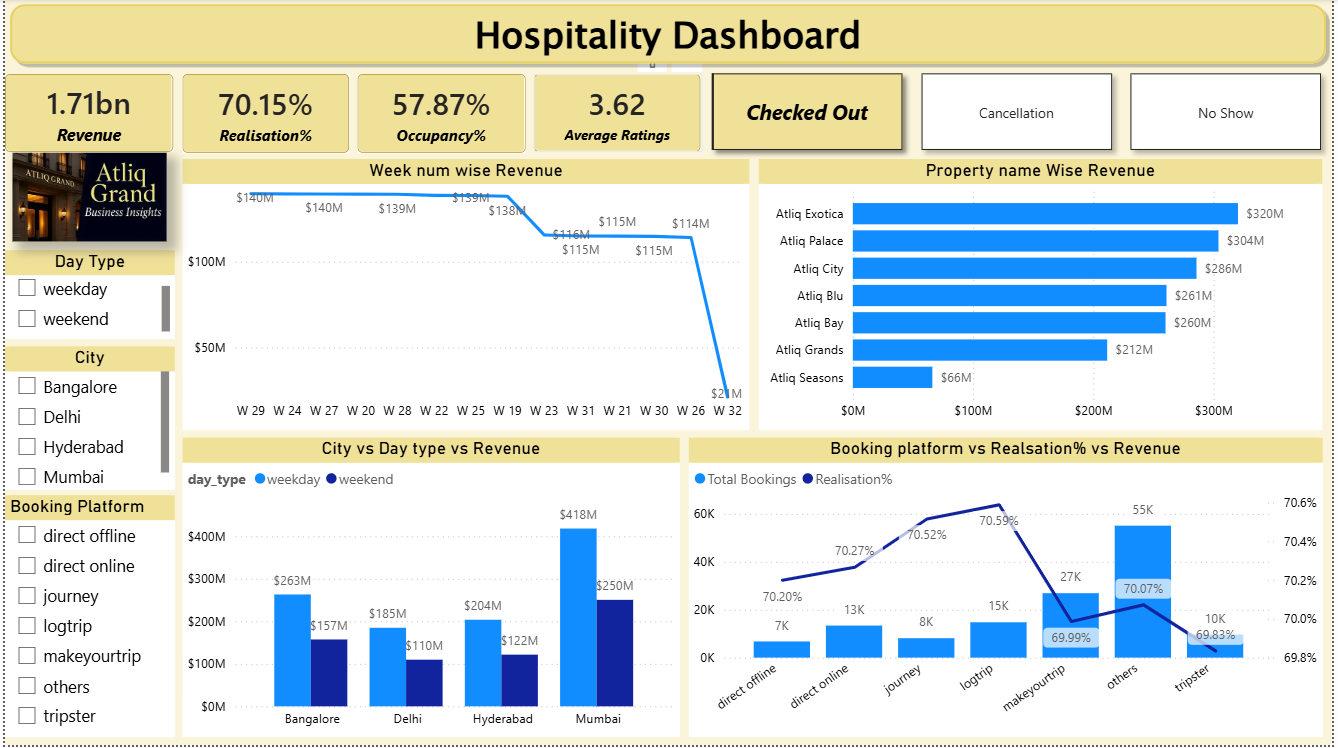

The dashboard page shown, as its layout file describes it:
{"tool":"powerbi","page":{"name":"Page 1","canvas":[1280,720],"ordinal":0},"visuals":[{"type":"cardVisual","title":"Occupancy%","fields":{"Data":["_Measures.Occupancy%"]},"box":[340.8,72.3,162.3,76.9],"z":0},{"type":"cardVisual","title":"Average Ratings","fields":{"Data":["_Measures.Average Ratings"]},"box":[510.9,72.2,161.7,75.2],"z":1000},{"type":"cardVisual","title":"Realisation%","fields":{"Data":["_Measures.Realisation%"]},"box":[171.5,72.3,161.5,76.9],"z":2000},{"type":"shape","title":"Hospitality Dashboard","box":[0,0,1280,67.1],"z":3000},{"type":"lineChart","title":"Week num wise Revenue","fields":{"Category":["dim_date.week no"],"Y":["_Measures.Revenue"]},"box":[171.7,155,547.5,261.7],"z":4000},{"type":"barChart","title":"Property name Wise Revenue","fields":{"Y":["_Measures.Revenue"],"Category":["dim_hotels.property_name"]},"box":[727.5,155,543.8,261.2],"z":5000},{"type":"lineStackedColumnComboChart","title":"Booking platform vs Realsation% vs Revenue","fields":{"Category":["fact_bookings.booking_platform"],"Y":["_Measures.Total Bookings"],"Y2":["_Measures.Realisation%"]},"box":[660,423.3,611.7,289.2],"z":6000},{"type":"cardVisual","title":"Revenue","fields":{"Data":["_Measures.Revenue"]},"box":[0,72.1,162.9,75],"z":7000},{"type":"slicer","title":"City","fields":{"Values":["dim_hotels.city"]},"box":[0,335,163.8,138.8],"z":8000},{"type":"slicer","title":"Booking Platform","fields":{"Values":["fact_bookings.booking_platform"]},"box":[0,478.8,163.8,233.8],"z":9000},{"type":"bookmarkNavigator","box":[672.7,62.7,607.3,92.7],"z":19000},{"type":"clusteredColumnChart","title":"City vs Day type vs Revenue","fields":{"Category":["dim_hotels.city"],"Y":["_Measures.Revenue"],"Series":["dim_date.day_type"]},"box":[171.7,423.3,480,289.2],"z":20000},{"type":"slicer","title":"Day Type","fields":{"Values":["dim_date.day_type"]},"box":[0,242.7,164,85.3],"z":29000},{"type":"image","box":[7.3,148.7,148.7,85.3],"z":30000}]}

Visuals, with their boxes in screenshot pixels (x1, y1, x2, y2), scaled from the page's 1280x720 canvas onto the 1338x748 screenshot:
"Occupancy%" cardVisual: region(356, 75, 526, 155)
"Average Ratings" cardVisual: region(534, 75, 703, 153)
"Realisation%" cardVisual: region(179, 75, 348, 155)
"Hospitality Dashboard" shape: region(0, 0, 1337, 70)
"Week num wise Revenue" lineChart: region(179, 161, 752, 433)
"Property name Wise Revenue" barChart: region(760, 161, 1329, 432)
"Booking platform vs Realsation% vs Revenue" lineStackedColumnComboChart: region(690, 440, 1329, 740)
"Revenue" cardVisual: region(0, 75, 170, 153)
"City" slicer: region(0, 348, 171, 492)
"Booking Platform" slicer: region(0, 497, 171, 740)
bookmarkNavigator: region(703, 65, 1337, 161)
"City vs Day type vs Revenue" clusteredColumnChart: region(179, 440, 681, 740)
"Day Type" slicer: region(0, 252, 171, 341)
image: region(8, 154, 163, 243)
